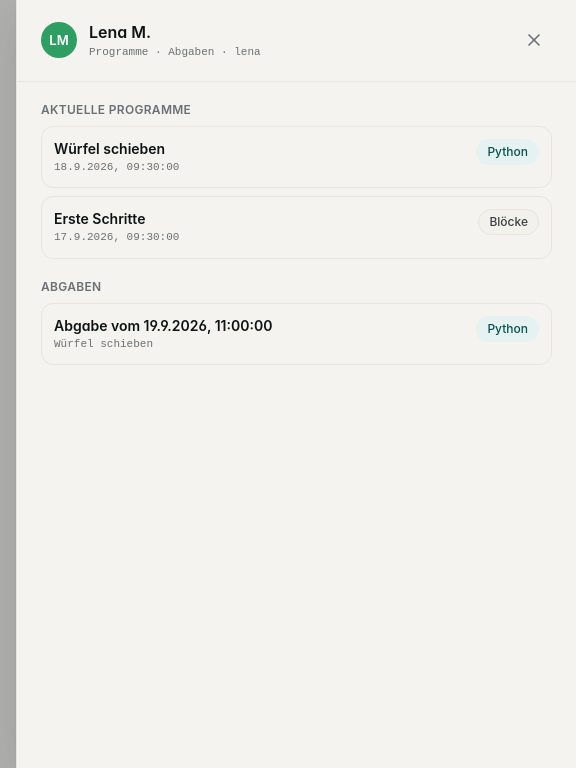
StudentProgramsDrawer — what the teacher sees › switching file shows the other one
Check: the element "Aktuelle Programme" is shown, box left=41, top=102, right=552, bottom=258
Click the button "Würfel schieben 18.9.2026, 09:30:00 Python": point(110, 148) left=41, top=126, right=552, bottom=188
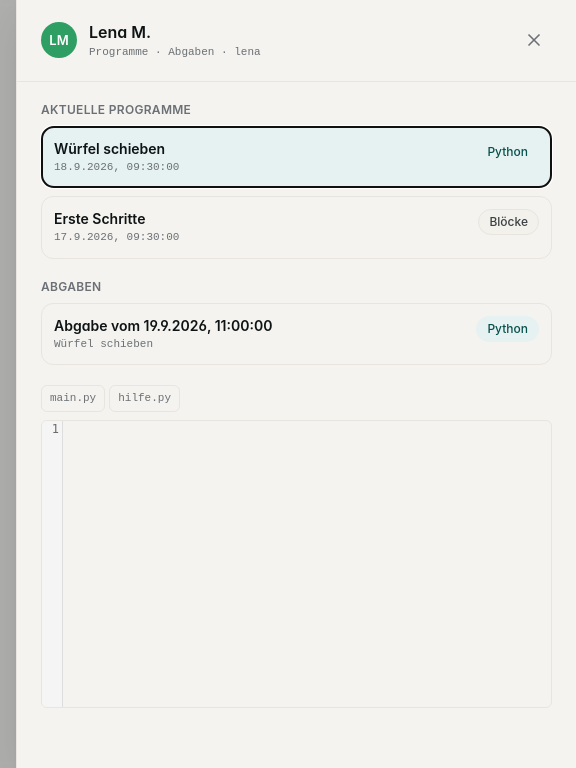
Check: the button "hilfe.py" is shown
Click the button "hilfe.py": point(145, 398) left=109, top=385, right=180, bottom=412
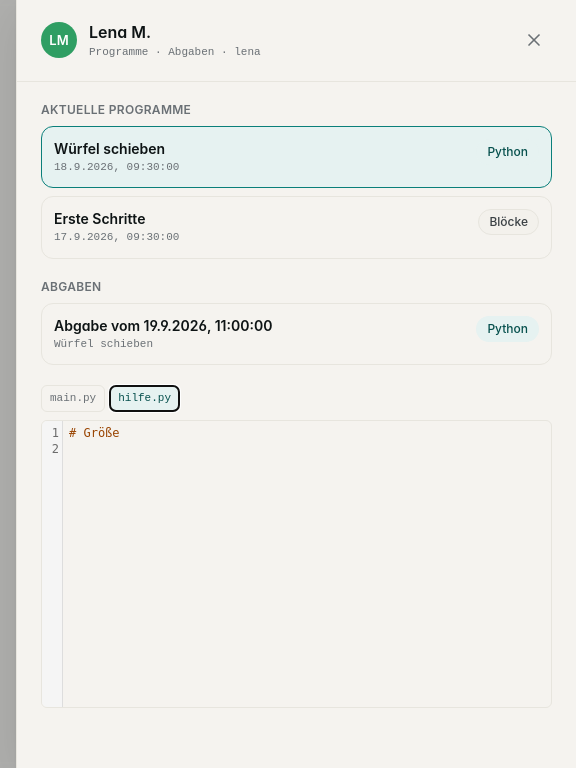
Check: the text "# Größe" is shown, box left=69, top=426, right=120, bottom=440
